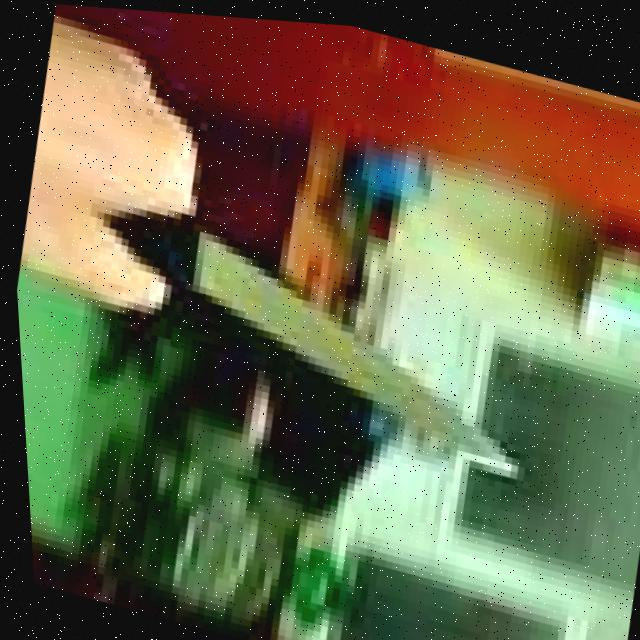knife: (70, 191, 548, 482)
